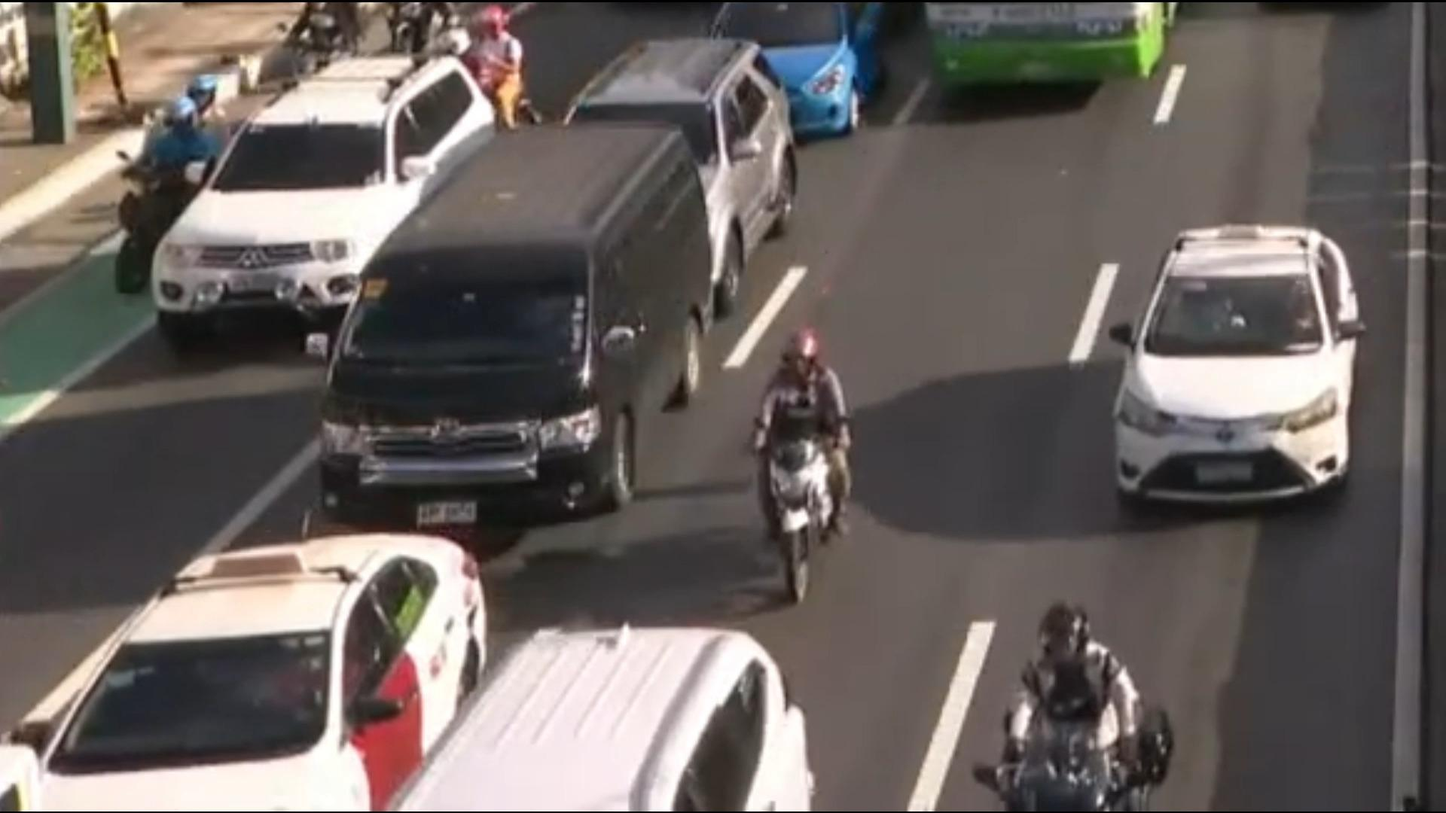Motorcycle: (713, 303, 878, 627), (972, 588, 1183, 813), (90, 66, 238, 300), (451, 0, 535, 136)
SUV: (79, 23, 509, 380), (335, 616, 819, 813), (558, 27, 814, 306)
Sedan: (0, 512, 503, 813), (1074, 187, 1365, 546), (683, 0, 912, 141)
Van: (298, 117, 733, 565)
